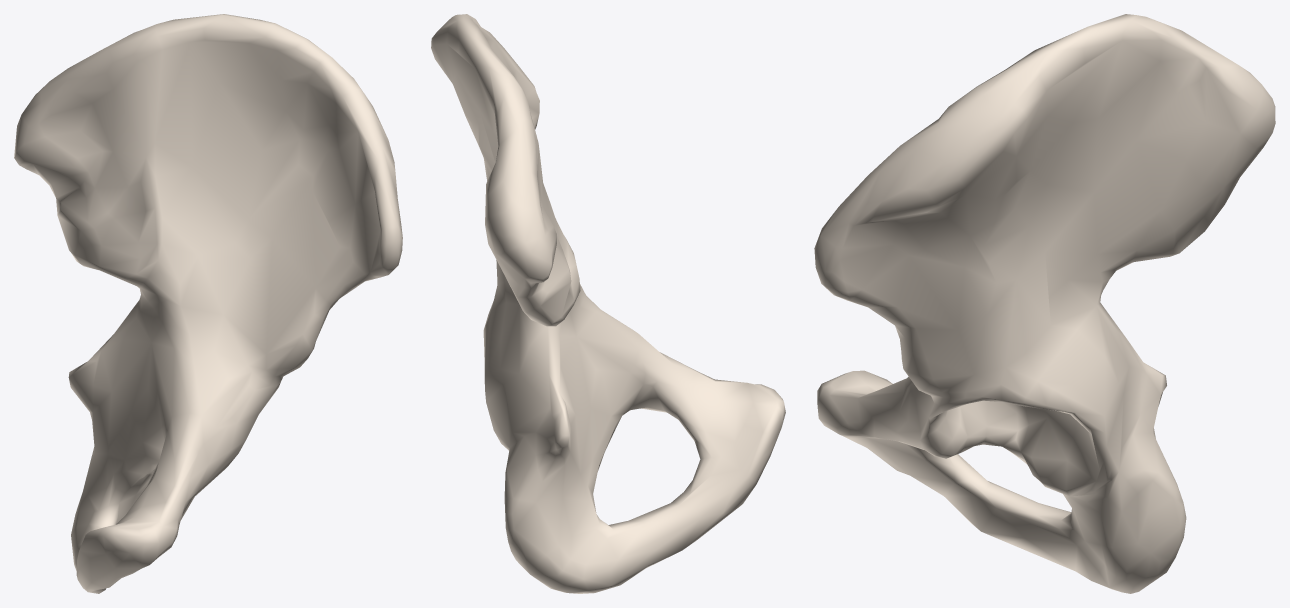
The model's file is left_coxal.glb.
The picture shows the model from 3 angles, left to right: view 1: azimuth 30°, elevation 25°; view 2: azimuth 150°, elevation 25°; view 3: azimuth 270°, elevation 25°; orthographic projection. The views are drawn at different scales.
Visible parts, largest first — view 1: Hip bone.r; view 2: Hip bone.r; view 3: Hip bone.r.
Boxes of the visible parts, x1,y1,x2,y2 form: Hip bone.r: (14,14,402,593); Hip bone.r: (431,14,785,593); Hip bone.r: (814,14,1275,593).
Size of the model in its own units: 0.1316 by 0.2133 by 0.1414.
